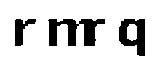m: (44, 15, 90, 49)
q: (117, 14, 147, 60)
r: (12, 16, 39, 51), (86, 17, 109, 52)
